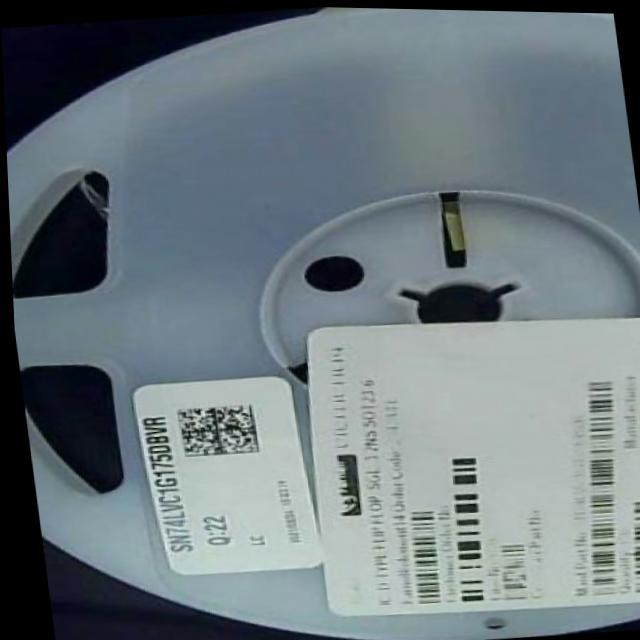datamatrix: (170, 398, 258, 460)
